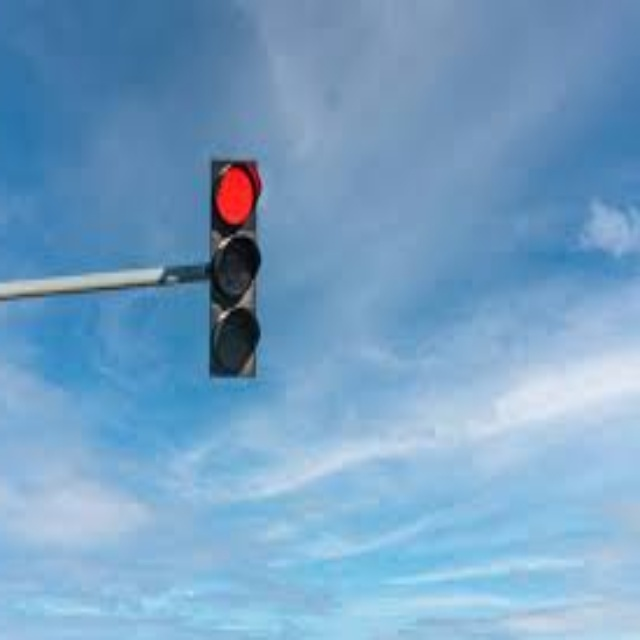red_light: (214, 163, 257, 224)
